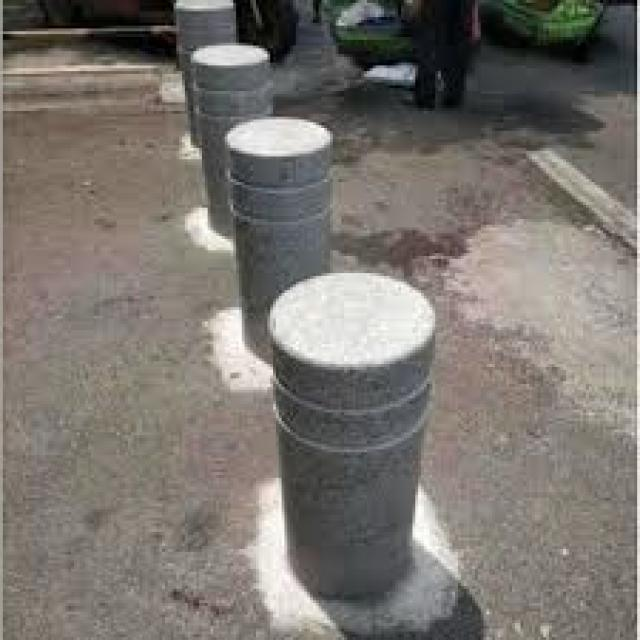bollard: (263, 260, 448, 606), (223, 102, 342, 342), (194, 36, 273, 217), (164, 0, 245, 79)
